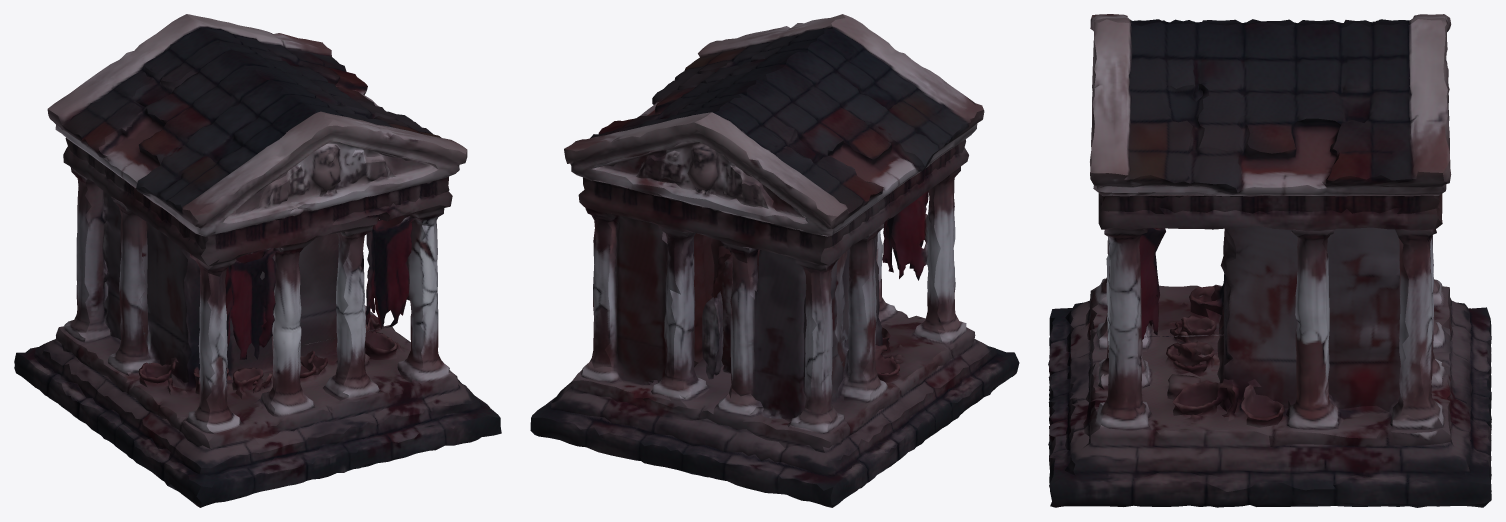
File: temple1.glb
3 renders of one model, left to right at view 1: azimuth 30°, elevation 25°; view 2: azimuth 150°, elevation 25°; view 3: azimuth 270°, elevation 25°, orthographic. The views are drawn at different scales.
Visible parts, largest first — view 1: MeshEditorResult; view 2: MeshEditorResult; view 3: MeshEditorResult.
Boxes of the visible parts, x1,y1,x2,y2 form: MeshEditorResult: [14, 14, 501, 507]; MeshEditorResult: [530, 14, 1019, 507]; MeshEditorResult: [1048, 14, 1491, 507].
Size of the model in its own units: 0.9493 by 1 by 0.999.
Materials: 1 (1 with a texture image).
